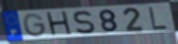2: (123, 6, 146, 33)
8: (99, 9, 120, 33)
G: (22, 12, 49, 38)
H: (45, 10, 75, 38)
L: (148, 6, 170, 31)
S: (72, 10, 97, 35)
